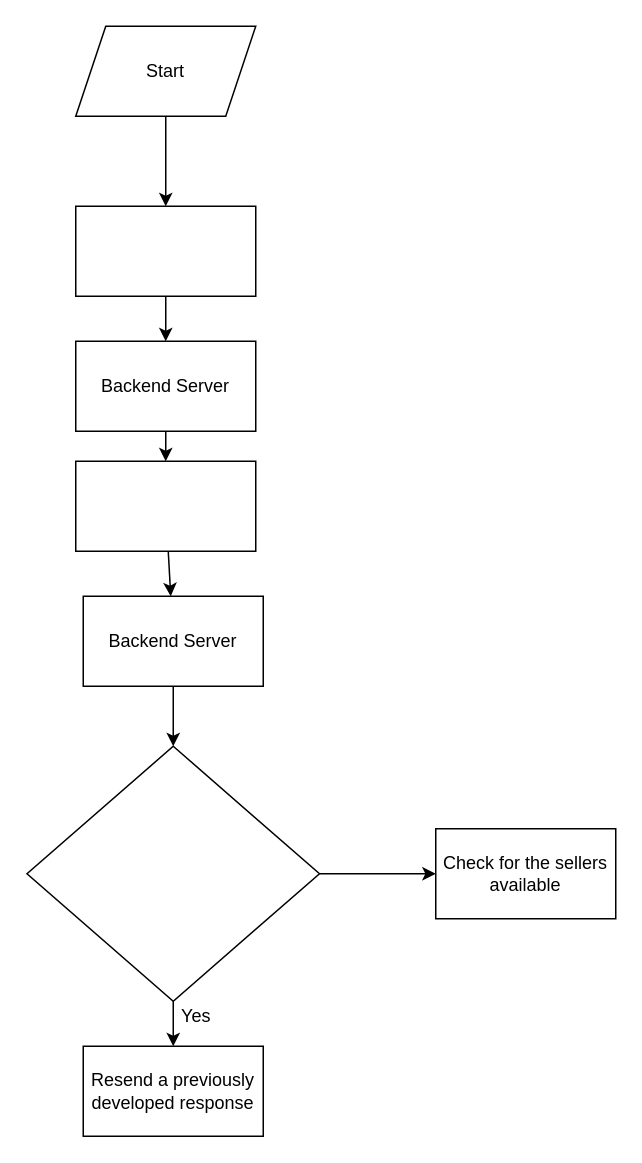
The diagram is 642 pixels wide and 1163 high, and some of its shapes have lost their labels. Here are the shapes that lost their labels. From the top down, the centre of each, then its label:
At (165,250): "User input".
At (165,505): "Word tagging NLP model".
At (173,873): "Similar Request Exists".
